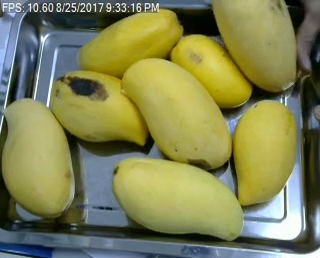Mango: (120, 58, 231, 167), (113, 156, 244, 240), (0, 99, 75, 217), (215, 0, 297, 91), (51, 71, 149, 145), (234, 99, 298, 206), (79, 10, 182, 74), (170, 35, 253, 108)
